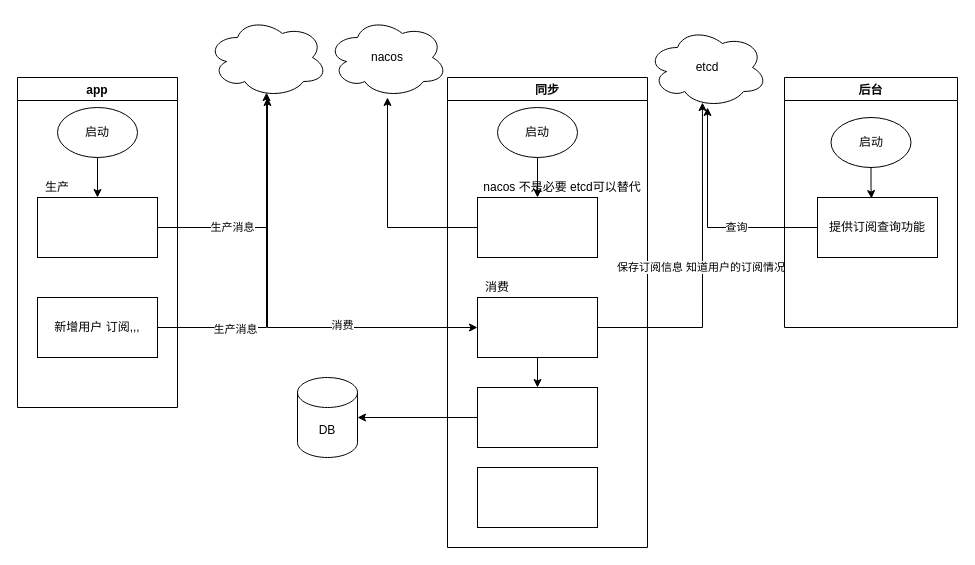
Image size: 975x565. Some labels were removed from this diagram. Here are the shapes that lost their labels. From the top down, the centre of each, then its label:
At [267,57]: "MQ".
At [97,227]: "查询用户 生成订阅消息".
At [537,227]: "注册nacos".
At [537,327]: "订阅交易所".
At [537,417]: "订单 资金变动 更新数据库".
At [537,497]: "其他需要app操作的就生产一个消息让app消费".
